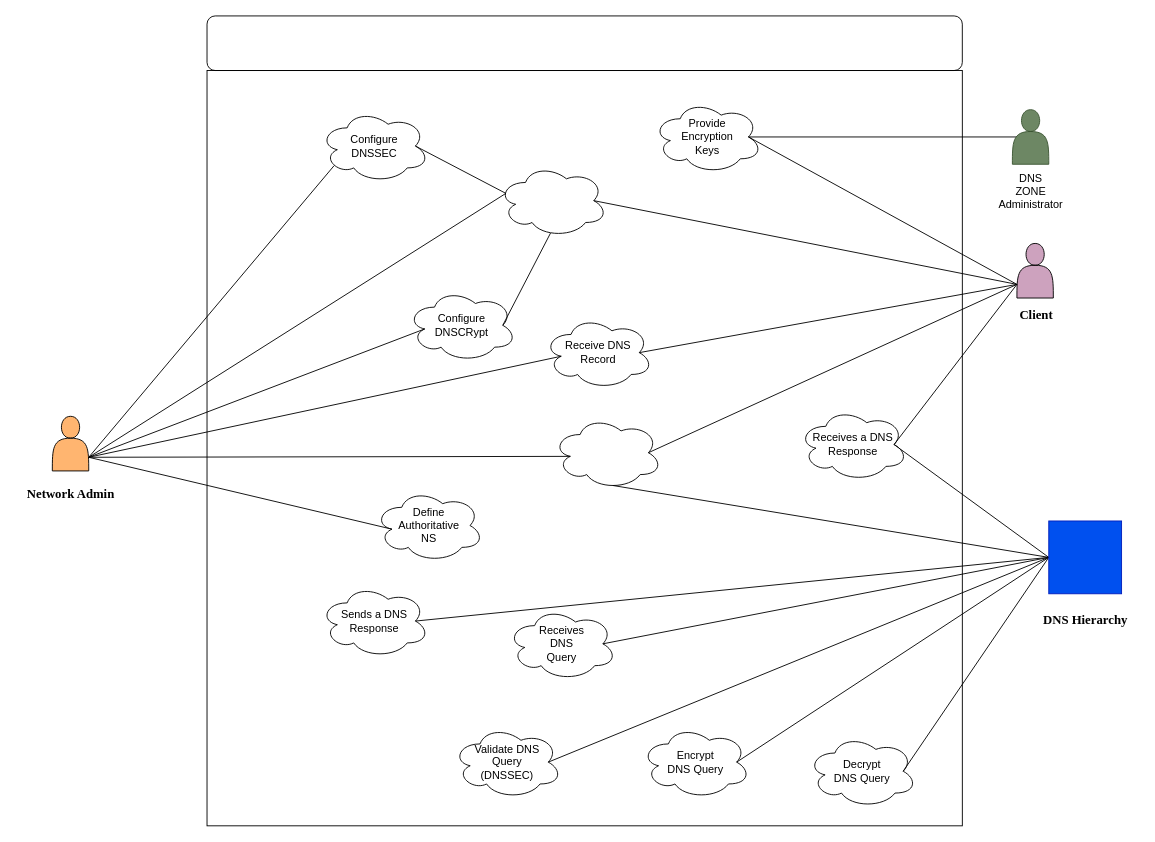
Some shapes in this 1155 by 842 pixel diagram are drawn without their labels. The centre of each missing label's shape, as x and y in pixels:
Forward DNS Query: (x=607, y=452)
Provide DNS Domain: (x=552, y=200)
User-Case Diagram: (x=584, y=43)
